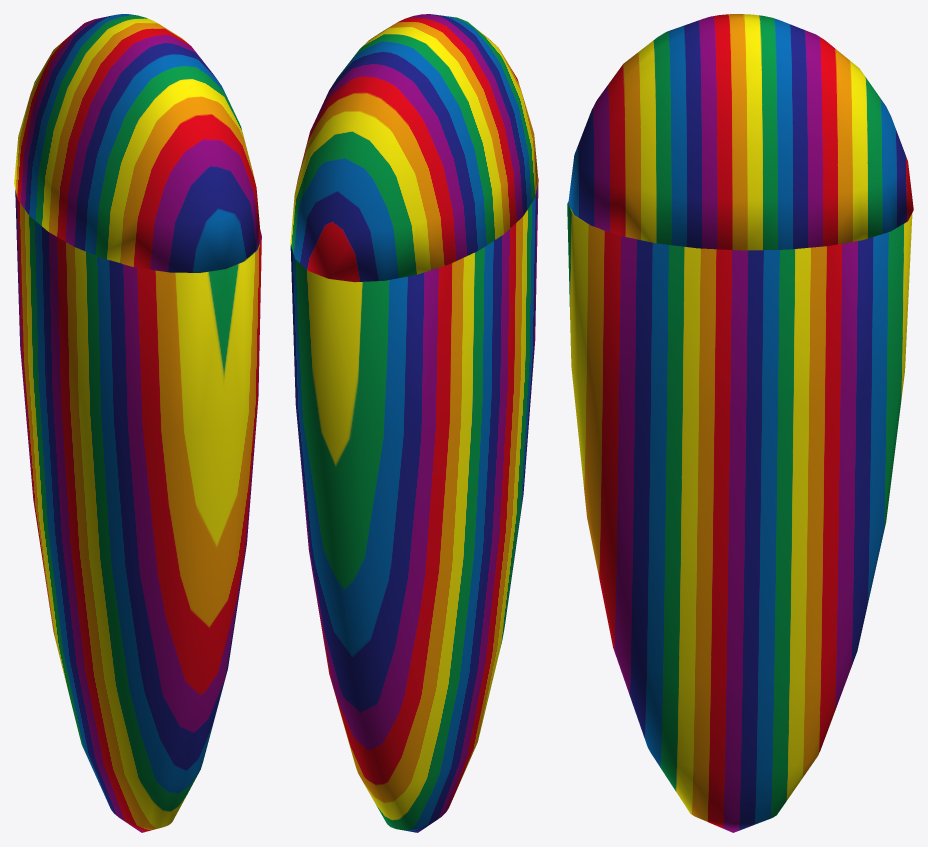
Rendered from Rainbowsky.obj.
The picture shows the model from 3 angles, left to right: view 1: azimuth 30°, elevation 25°; view 2: azimuth 150°, elevation 25°; view 3: azimuth 270°, elevation 25°; orthographic projection.
Parts seen in each view (by area): view 1: default, default.001; view 2: default, default.001; view 3: default, default.001.
Part boxes in pixels (x1,y1,x2,y2): default: (15, 190, 261, 832); default.001: (14, 14, 260, 272); default: (290, 179, 538, 832); default.001: (290, 14, 538, 282); default: (567, 201, 912, 832); default.001: (568, 14, 913, 250).
Size of the model in its own units: 591 by 2555 by 986.
2 materials, 2 textured.
